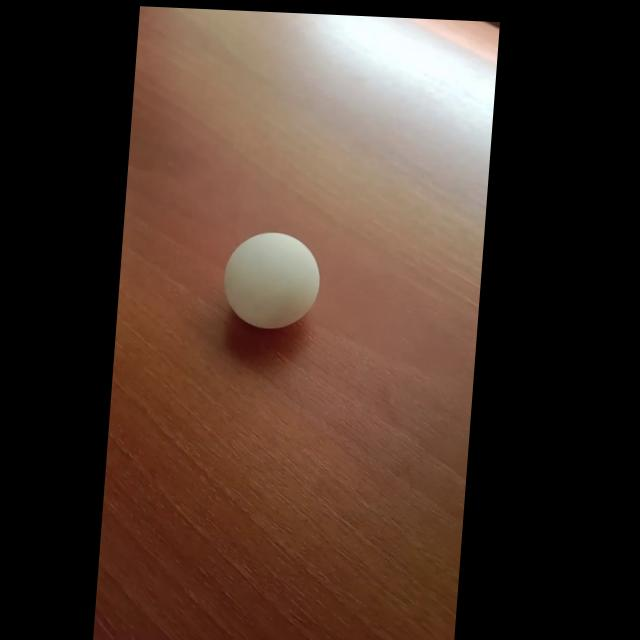white ball: (220, 229, 323, 331)
